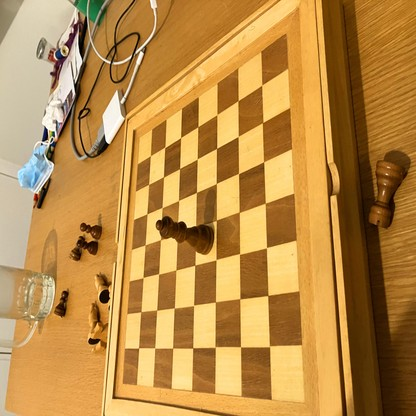bishop_white: (87, 302, 97, 342)
knight_white: (90, 323, 113, 342), (91, 341, 107, 359)
pawn_black: (80, 224, 102, 239), (78, 239, 98, 254), (56, 289, 67, 316)
pawn_white: (70, 241, 83, 259)
queen_black: (156, 219, 213, 254)
queen_white: (94, 274, 109, 304)
rock_black: (368, 160, 405, 227)
